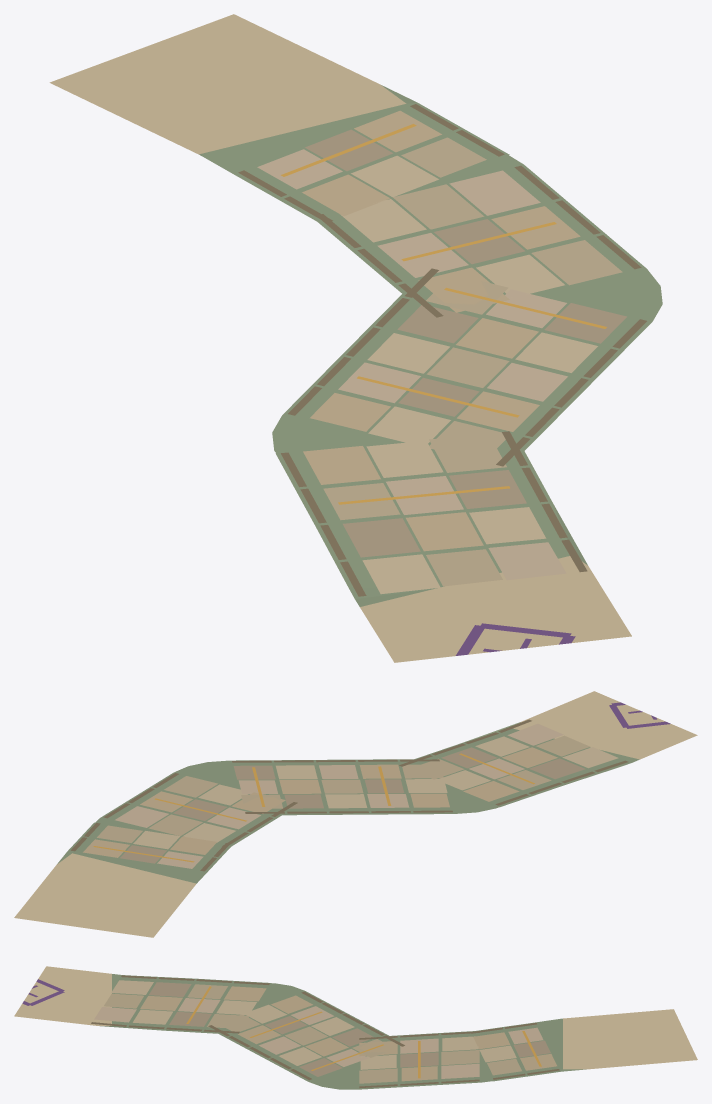
Rendered from route-temple_s-mid-ramp.glb.
The picture shows the model from 3 angles, top to bottom: view 1: azimuth 30°, elevation 25°; view 2: azimuth 150°, elevation 25°; view 3: azimuth 270°, elevation 25°; orthographic projection. The views are drawn at different scales.
Visible parts, largest first — view 1: Surveyed floor · route-temple_s-mid-ramp, South Temple to Sluice / #C9B798, South Temple to Sluice / #C2AE8D, South Temple to Sluice / #BDAD8E, South Temple to Sluice / #C7B399, South Temple to Sluice / #AE9D84, South Temple to Sluice / #85775D, South Temple to Sluice / brass; view 2: Surveyed floor · route-temple_s-mid-ramp, South Temple to Sluice / #C9B798, South Temple to Sluice / #C2AE8D, South Temple to Sluice / #BDAD8E, South Temple to Sluice / #C7B399, South Temple to Sluice / #AE9D84, South Temple to Sluice / #85775D, South Temple to Sluice / brass; view 3: Surveyed floor · route-temple_s-mid-ramp, South Temple to Sluice / #C9B798, South Temple to Sluice / #C2AE8D, South Temple to Sluice / #BDAD8E, South Temple to Sluice / #C7B399, South Temple to Sluice / #AE9D84, South Temple to Sluice / #85775D, South Temple to Sluice / brass.
Part boxes in pixels (<box>): Surveyed floor · route-temple_s-mid-ramp: <box>49,14,662,662</box>; South Temple to Sluice / #C9B798: <box>340,155,597,594</box>; South Temple to Sluice / #C2AE8D: <box>302,110,580,551</box>; South Temple to Sluice / #BDAD8E: <box>323,137,622,586</box>; South Temple to Sluice / #C7B399: <box>257,149,567,580</box>; South Temple to Sluice / #AE9D84: <box>305,129,626,557</box>; South Temple to Sluice / #85775D: <box>238,104,646,596</box>; South Temple to Sluice / brass: <box>281,124,606,504</box>; Surveyed floor · route-temple_s-mid-ramp: <box>14,691,697,937</box>; South Temple to Sluice / #C9B798: <box>133,736,618,849</box>; South Temple to Sluice / #C2AE8D: <box>83,747,557,857</box>; South Temple to Sluice / #BDAD8E: <box>97,735,590,842</box>; South Temple to Sluice / #C7B399: <box>115,723,563,868</box>; South Temple to Sluice / #AE9D84: <box>120,747,585,863</box>; South Temple to Sluice / #85775D: <box>71,719,628,871</box>; South Temple to Sluice / brass: <box>93,753,534,862</box>; Surveyed floor · route-temple_s-mid-ramp: <box>14,966,697,1089</box>; South Temple to Sluice / #C9B798: <box>111,980,516,1069</box>; South Temple to Sluice / #C2AE8D: <box>140,986,556,1081</box>; South Temple to Sluice / #BDAD8E: <box>104,984,521,1083</box>; South Temple to Sluice / #C7B399: <box>94,998,543,1078</box>; South Temple to Sluice / #AE9D84: <box>149,982,550,1076</box>; South Temple to Sluice / #85775D: <box>91,975,559,1088</box>; South Temple to Sluice / brass: <box>186,986,541,1078</box>.
Bounding box in the file's own units: 15.89 × 1.42 × 33.38.
